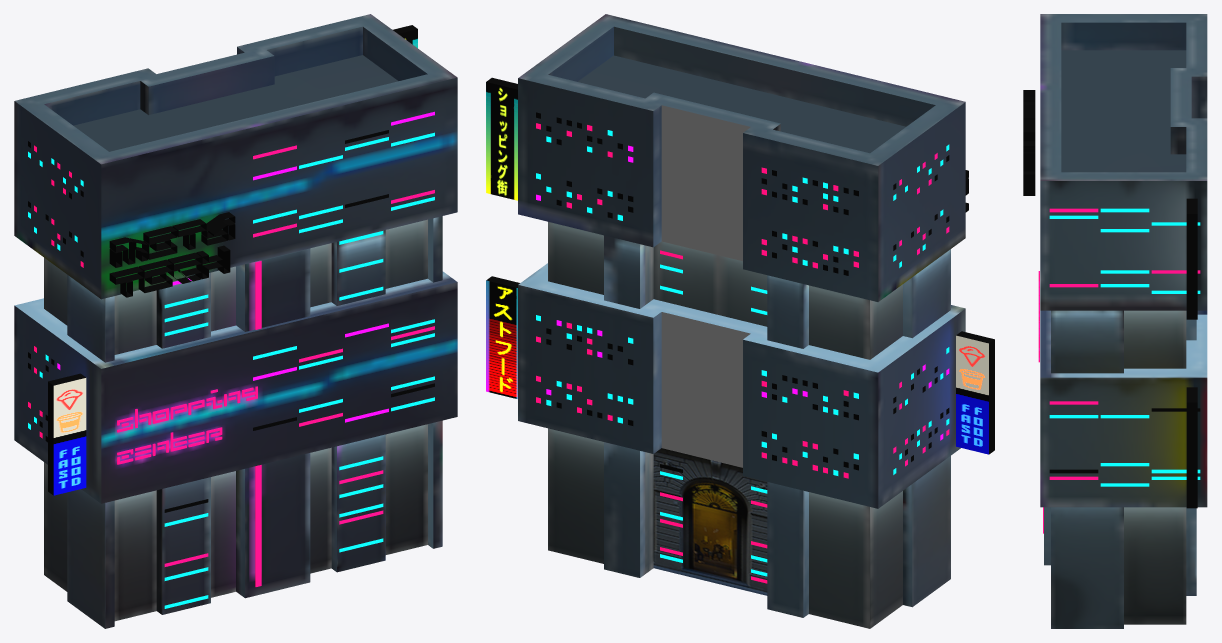
The model's file is BLD1310013.fbx.
3 views of the same model, side by side, from view 1: azimuth 30°, elevation 25°; view 2: azimuth 150°, elevation 25°; view 3: azimuth 270°, elevation 25° (orthographic). The views are drawn at different scales.
Parts seen in each view (by area): view 1: smBLD1310013; view 2: smBLD1310013; view 3: smBLD1310013.
Boxes of the visible parts, <box> form: smBLD1310013: <box>14,14,457,628</box>; smBLD1310013: <box>486,14,994,628</box>; smBLD1310013: <box>1023,14,1207,628</box>.
Size of the model in its own units: 1165 by 1216 by 449.
Materials: 4 (2 with a texture image).
